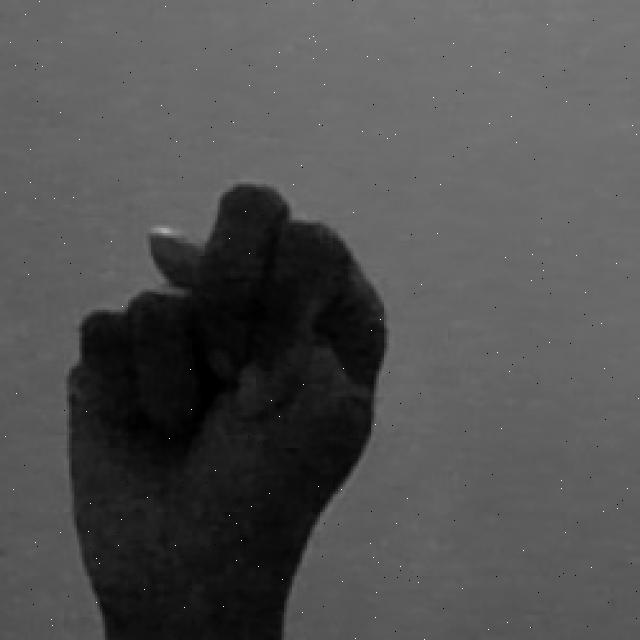N: (54, 174, 394, 640)
